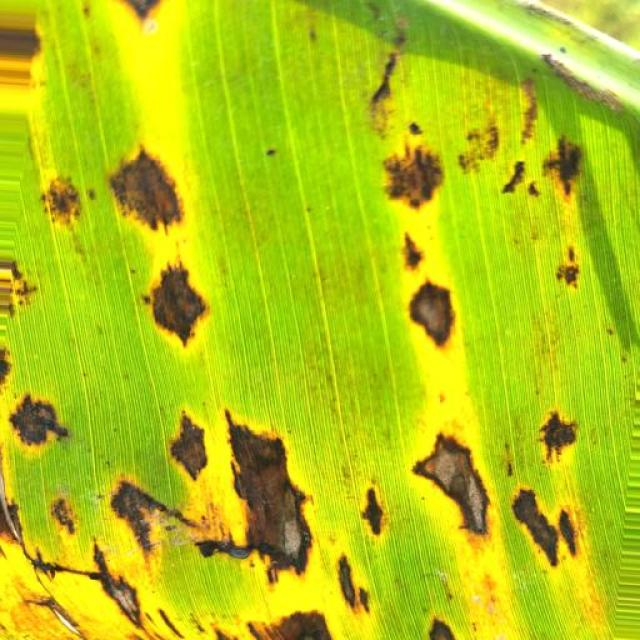Early_rust: (0, 0, 601, 636)
